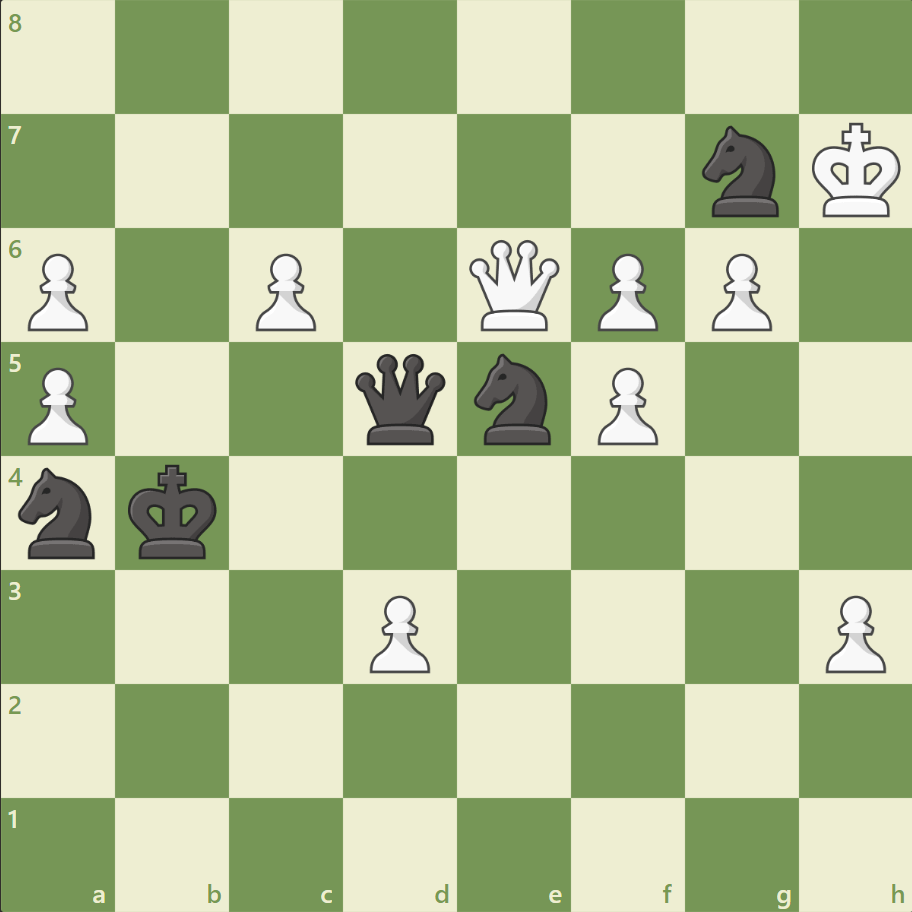K: (806, 117, 906, 225)
P: (20, 246, 95, 337), (247, 246, 322, 337), (701, 246, 776, 337), (20, 359, 95, 450), (588, 246, 662, 337), (588, 359, 662, 450), (361, 586, 435, 677), (815, 586, 889, 677)
Q: (464, 236, 563, 335)
k: (124, 458, 224, 566)
n: (11, 461, 108, 564), (692, 121, 789, 223), (465, 348, 562, 450)
q: (351, 349, 450, 449)
